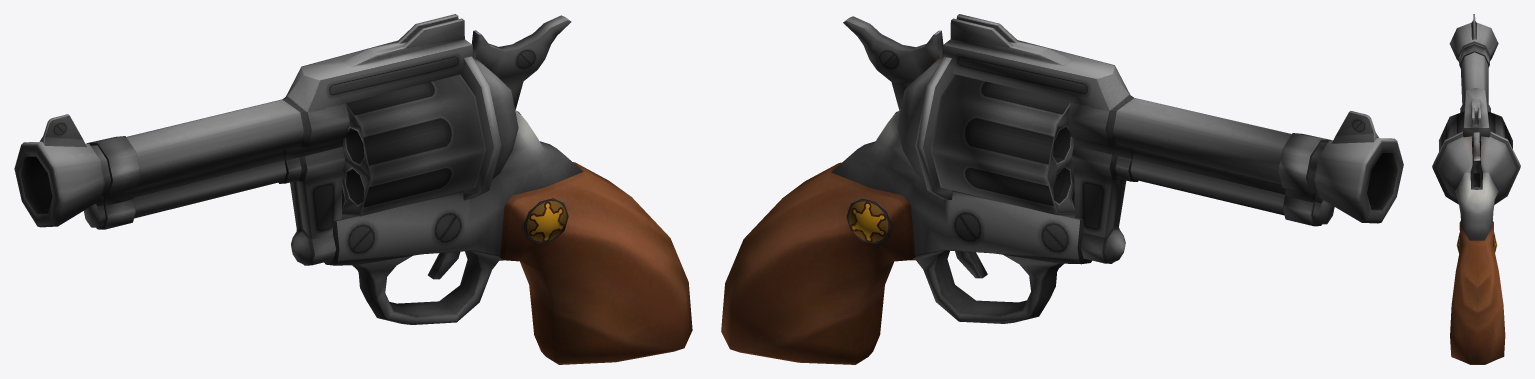
The model's file is RevA02.fbx.
3 views of the same model, side by side, from view 1: azimuth 30°, elevation 25°; view 2: azimuth 150°, elevation 25°; view 3: azimuth 270°, elevation 25° (orthographic). The views are drawn at different scales.
Parts seen in each view (by area): view 1: gun_a02, gun_a02_02; view 2: gun_a02, gun_a02_02; view 3: gun_a02, gun_a02_02.
Boxes of the visible parts, left/top/right/bottom form: gun_a02: left=14, top=14, right=692, bottom=364; gun_a02_02: left=341, top=74, right=485, bottom=216; gun_a02: left=721, top=14, right=1403, bottom=364; gun_a02_02: left=930, top=74, right=1074, bottom=215; gun_a02: left=1432, top=14, right=1520, bottom=364; gun_a02_02: left=1439, top=111, right=1512, bottom=151.
Size of the model in its own units: 0.8732 by 0.4725 by 0.1988.
1 material, 1 textured.
